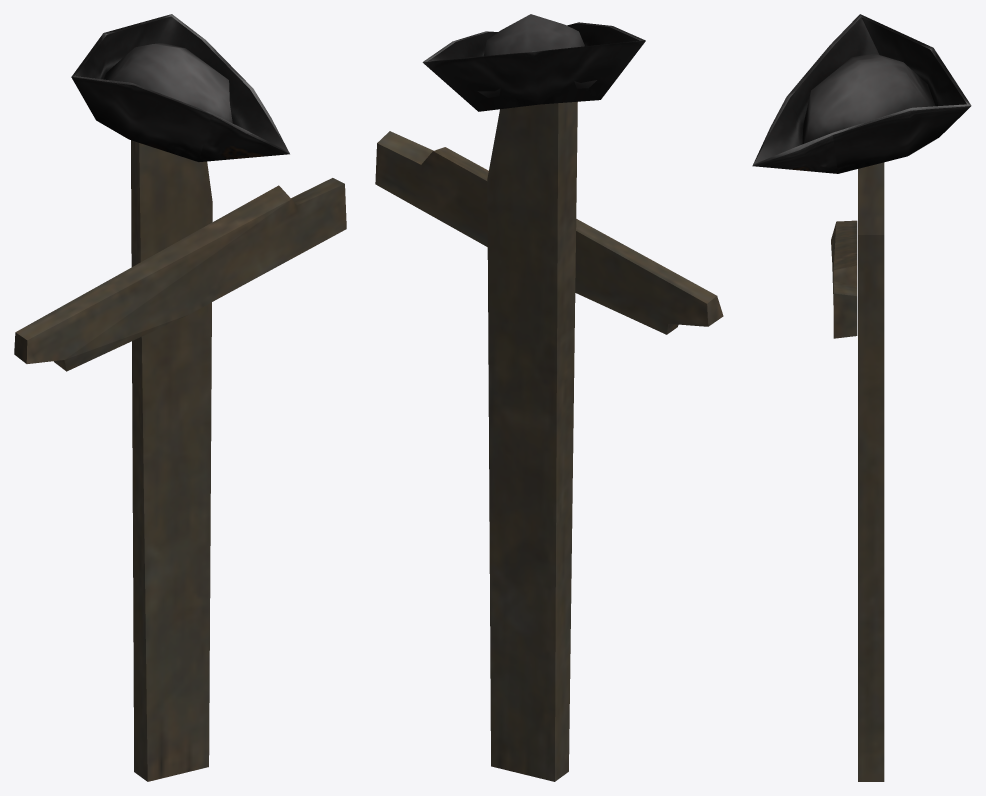
File: props_tomb_mesh.FBX
3 renders of one model, left to right at view 1: azimuth 30°, elevation 25°; view 2: azimuth 150°, elevation 25°; view 3: azimuth 270°, elevation 25°, orthographic. The views are drawn at different scales.
Parts seen in each view (by area): view 1: props_tomb_mesh; view 2: props_tomb_mesh; view 3: props_tomb_mesh.
Boxes of the visible parts, left/top/right/bottom form: props_tomb_mesh: left=14, top=14, right=346, bottom=781; props_tomb_mesh: left=375, top=14, right=723, bottom=781; props_tomb_mesh: left=752, top=14, right=971, bottom=781.
Bounding box in the file's own units: 77.24 × 166 × 46.89.
